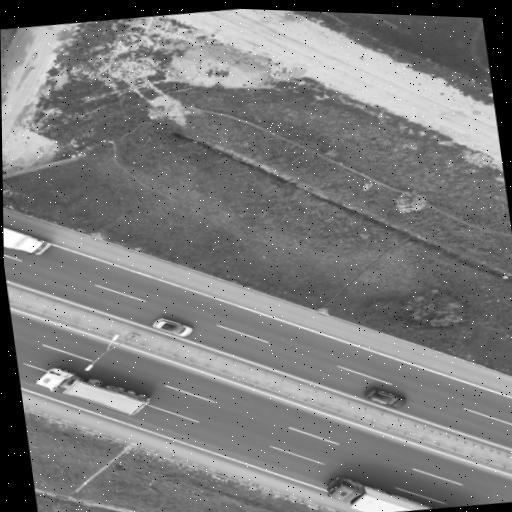car: (366, 388, 406, 406), (153, 318, 192, 336)
truck: (35, 368, 149, 414), (326, 476, 432, 511), (3, 227, 49, 253)
